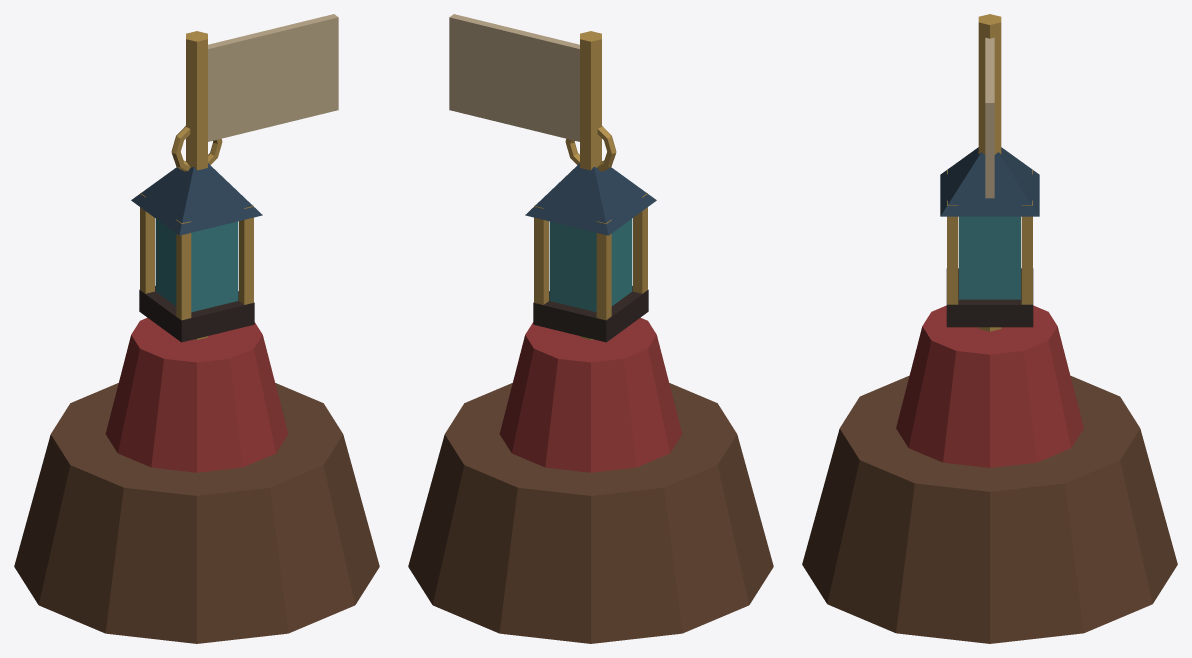
Rendered from PirateCove_SignalBuoy_Standard.glb.
3 renders of one model, left to right at view 1: azimuth 30°, elevation 25°; view 2: azimuth 150°, elevation 25°; view 3: azimuth 270°, elevation 25°, orthographic. The views are drawn at different scales.
Visible parts, largest first — view 1: PirateCove_SignalBuoy_Standard; view 2: PirateCove_SignalBuoy_Standard; view 3: PirateCove_SignalBuoy_Standard.
Boxes of the visible parts, x1,y1,x2,y2 form: PirateCove_SignalBuoy_Standard: (14, 14, 379, 643); PirateCove_SignalBuoy_Standard: (408, 14, 773, 643); PirateCove_SignalBuoy_Standard: (802, 14, 1177, 643).
Size of the model in its own units: 1 by 1.6 by 1.
